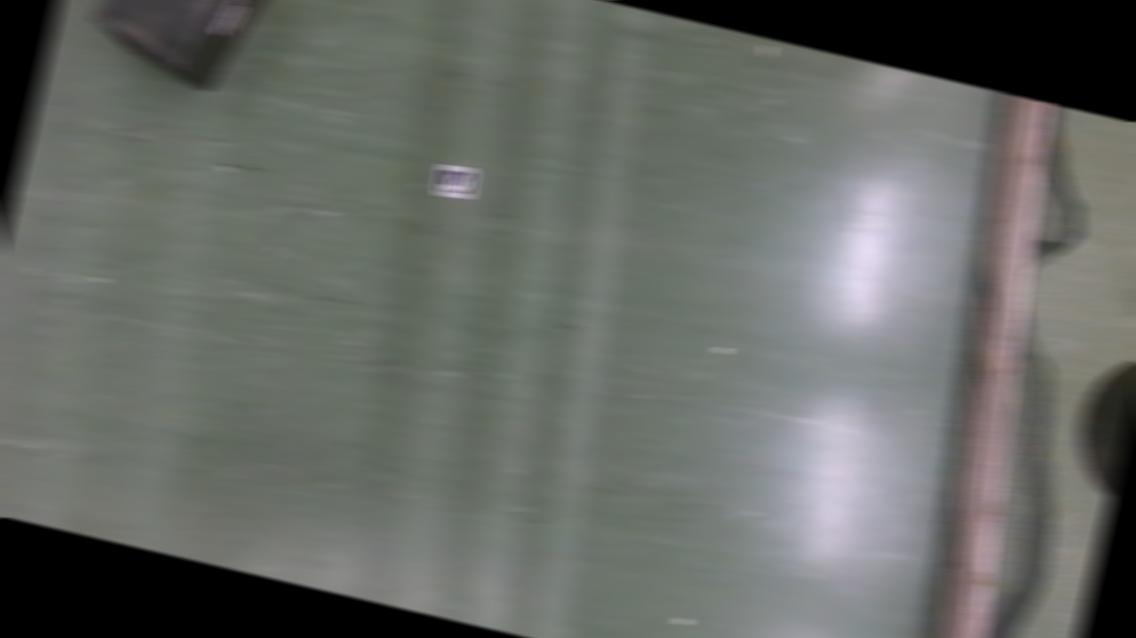rako: (78, 0, 290, 99)
